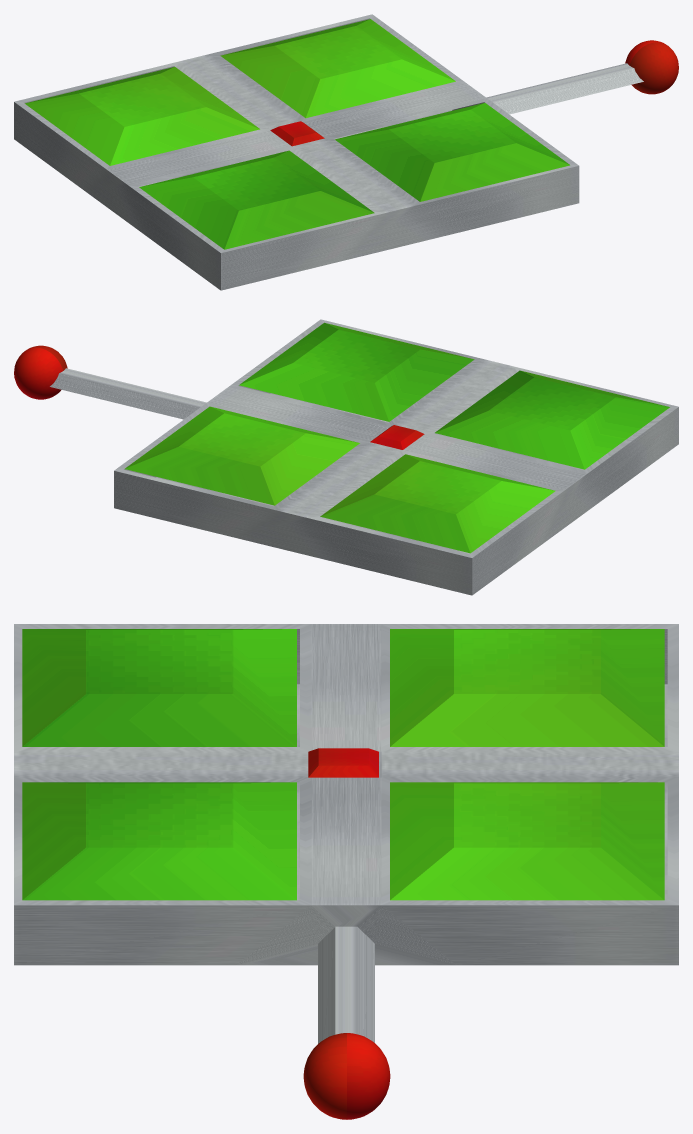
Rendered from remote.fbx.
3 renders of one model, top to bottom at view 1: azimuth 30°, elevation 25°; view 2: azimuth 150°, elevation 25°; view 3: azimuth 270°, elevation 25°, orthographic. The views are drawn at different scales.
Parts seen in each view (by area): view 1: green button, remote, light, red button; view 2: green button, remote, light, red button; view 3: green button, remote, light, red button.
Boxes of the visible parts, x1,y1,x2,y2 form: green button: (25,19,569,249); remote: (14,14,643,290); light: (625,40,678,94); red button: (270,121,324,146); green button: (125,322,669,553); remote: (50,319,678,595); light: (14,345,67,399); red button: (370,425,424,449); green button: (22,629,664,900); remote: (14,624,678,1043); light: (303,1033,390,1119); red button: (308,748,378,777).
Size of the model in its own units: 77.86 by 8.15 by 50.
